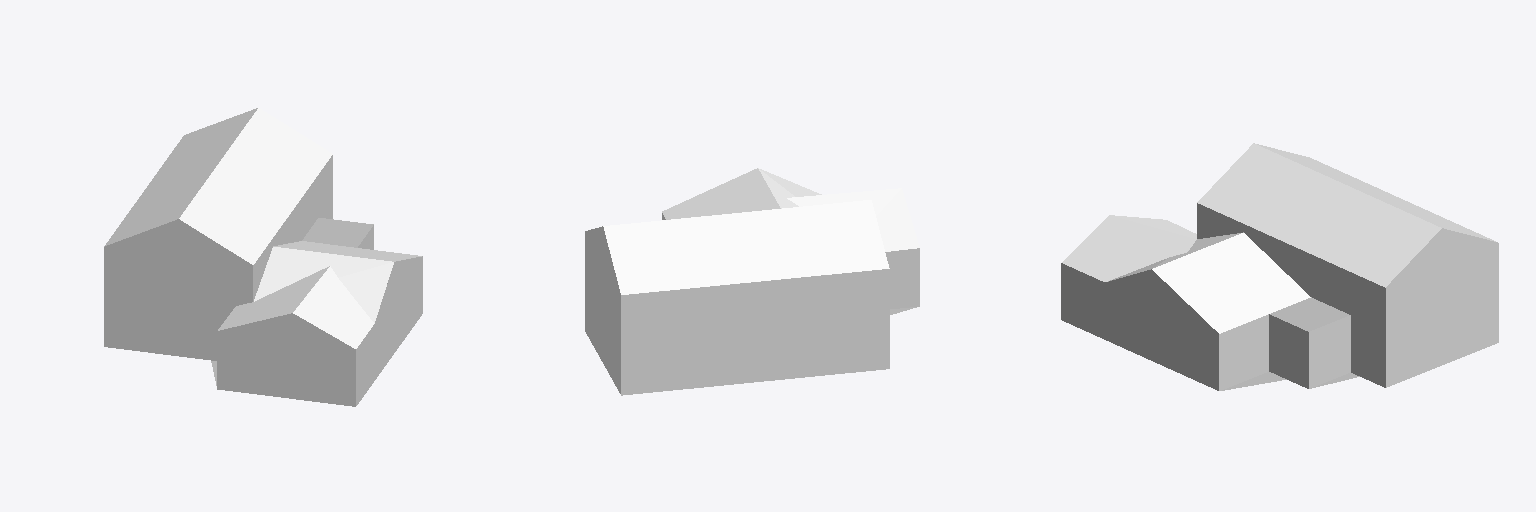
Rendered from house_Shape 275.obj.
3 views of the same model, side by side, from view 1: azimuth 30°, elevation 25°; view 2: azimuth 150°, elevation 25°; view 3: azimuth 270°, elevation 25° (orthographic).
Visible parts, largest first — view 1: CityEngineMaterial_18, CityEngineMaterial_179, CityEngineMaterial_180, CityEngineMaterial_159, CityEngineMaterial_178; view 2: CityEngineMaterial_18, CityEngineMaterial_179, CityEngineMaterial_159, CityEngineMaterial_180; view 3: CityEngineMaterial_18, CityEngineMaterial_180, CityEngineMaterial_179, CityEngineMaterial_159, CityEngineMaterial_178.
Boxes of the visible parts, x1=… form: CityEngineMaterial_18: x1=104, y1=108, x2=421, y2=348; CityEngineMaterial_179: x1=104, y1=180, x2=422, y2=406; CityEngineMaterial_180: x1=104, y1=219, x2=407, y2=326; CityEngineMaterial_159: x1=253, y1=155, x2=332, y2=290; CityEngineMaterial_178: x1=211, y1=218, x2=373, y2=385; CityEngineMaterial_18: x1=603, y1=168, x2=919, y2=294; CityEngineMaterial_179: x1=621, y1=294, x2=889, y2=395; CityEngineMaterial_159: x1=621, y1=269, x2=889, y2=319; CityEngineMaterial_180: x1=585, y1=213, x2=919, y2=393; CityEngineMaterial_18: x1=1062, y1=143, x2=1495, y2=333; CityEngineMaterial_180: x1=1130, y1=228, x2=1498, y2=390; CityEngineMaterial_179: x1=1061, y1=228, x2=1385, y2=390; CityEngineMaterial_159: x1=1197, y1=203, x2=1385, y2=312; CityEngineMaterial_178: x1=1222, y1=297, x2=1359, y2=390.
Bounding box in the file's own units: 17.13 × 8.22 × 23.73.